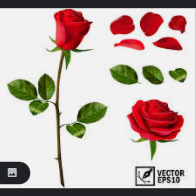RedRose: (127, 95, 186, 143), (52, 10, 90, 51)
